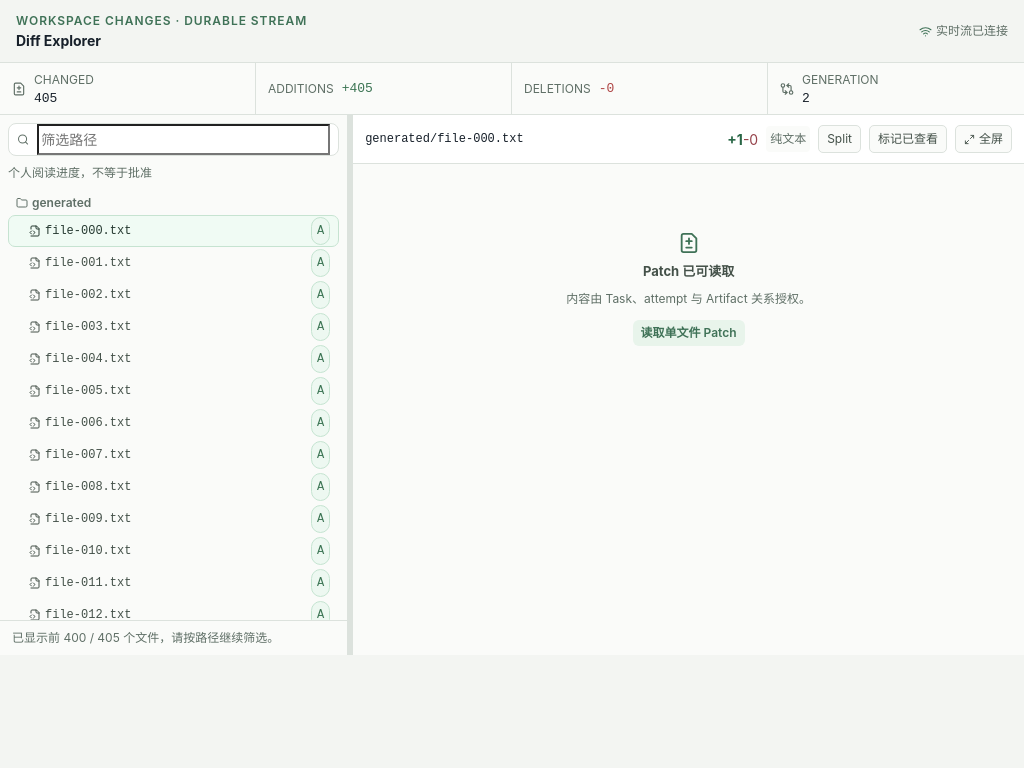
CodingDiffExplorer › bounds a large tree and preserves path filtering
Type "file-404" into the search field with placeholder "筛选路径".
click(184, 140); type("file-404")  # box left=37, top=124, right=330, bottom=155
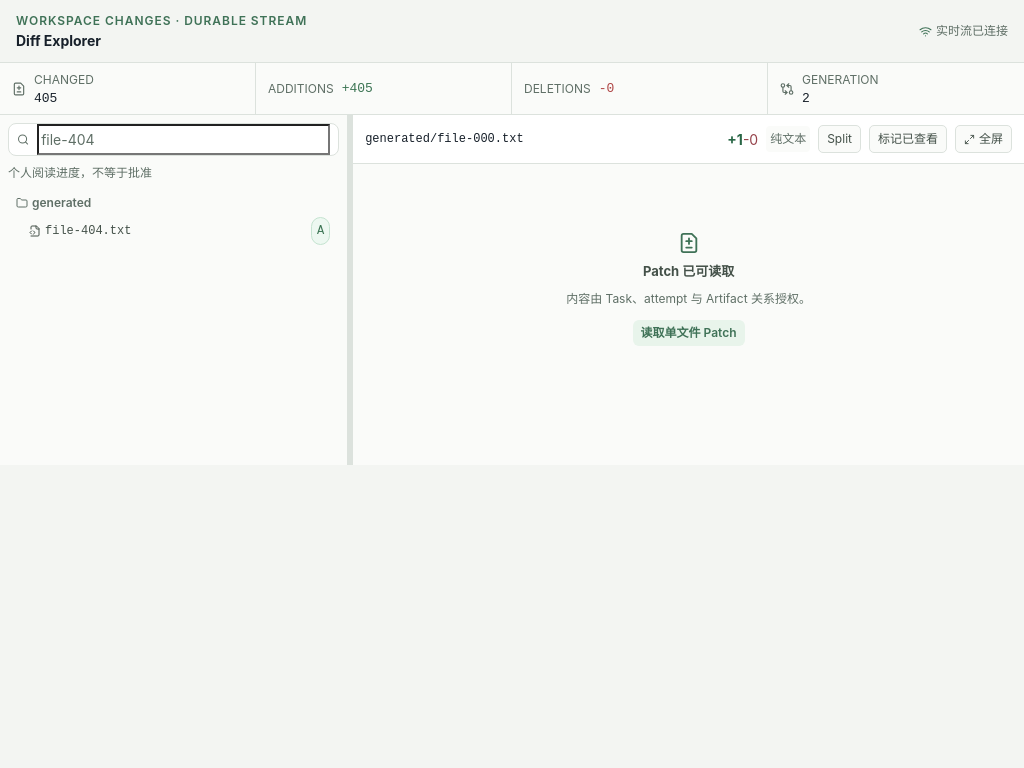
Expected: the text "file-404.txt" is shown, left=45, top=224, right=131, bottom=238
Expected: the text "已显示前 400" is gone
